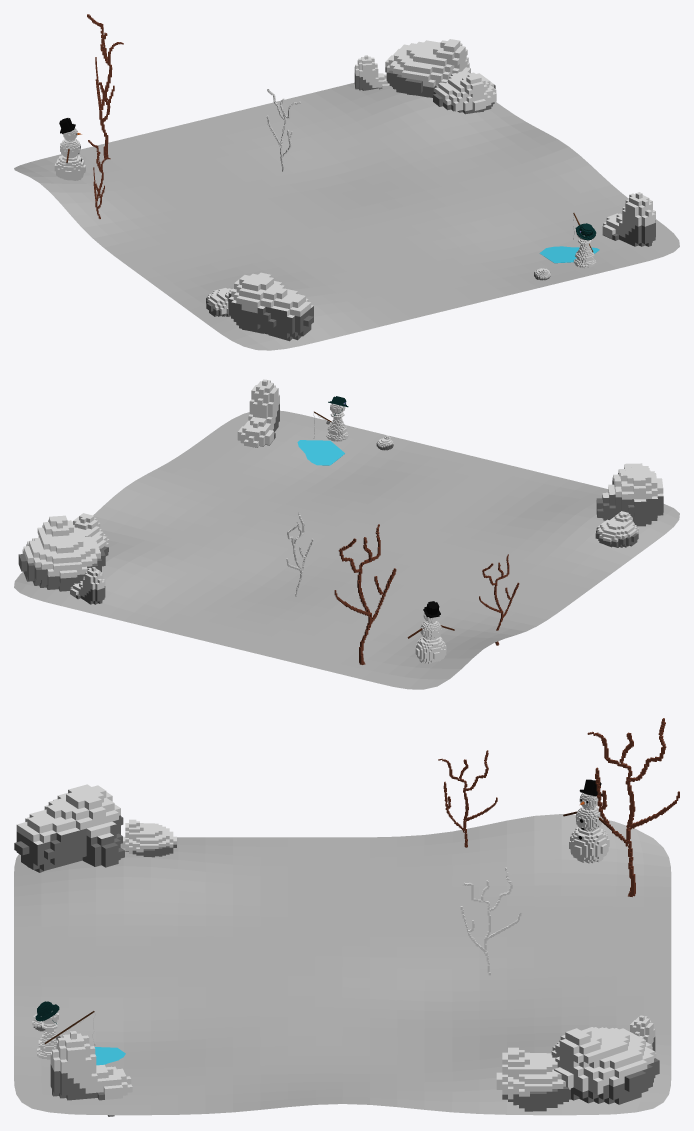
File: snowmap.fbx
3 views of the same model, one above another, from view 1: azimuth 30°, elevation 25°; view 2: azimuth 150°, elevation 25°; view 3: azimuth 270°, elevation 25° (orthographic). The views are drawn at different scales.
Visible parts, largest first — view 1: Plane, Mball.007, Mball.009, Mball.008, Mball.002, BézierCurve, Mball.010, Sphere, Mball.006, BézierCurve.001, Circle; view 2: Plane, Mball.009, Mball.007, Mball.002, BézierCurve, Mball.006, Mball.010, Circle, Mball.008, Sphere, BézierCurve.002, basic_pawn_mesh.004 (+1 smaller); view 3: Plane, Mball.007, Mball.009, Mball.002, Mball.008, BézierCurve, Mball.006, Sphere, BézierCurve.002, BézierCurve.001, basic_pawn_mesh.004.
Part boxes in pixels (x1,y1,x2,y2): Plane: (14,82,679,350); Mball.007: (228,272,313,341); Mball.009: (385,39,470,97); Mball.008: (433,71,496,114); Mball.002: (602,192,655,246); BézierCurve: (87,14,123,158); Mball.010: (354,55,391,90); Sphere: (54,155,85,180); Mball.006: (206,288,233,316); BézierCurve.001: (266,89,300,171); Circle: (539,246,599,263); Plane: (14,410,679,689); Mball.009: (18,515,105,591); Mball.007: (596,463,663,526); Mball.002: (237,379,279,447); BézierCurve: (334,524,396,664); Mball.006: (595,511,638,547); Mball.010: (70,567,105,604); Circle: (297,440,344,465); Mball.008: (72,513,109,556); Sphere: (415,636,446,663); BézierCurve.002: (479,554,519,645); basic_pawn_mesh.004: (326,403,348,441); Plane: (14,814,671,1115); Mball.007: (14,784,124,872); Mball.009: (548,1027,659,1104); Mball.002: (50,1031,132,1116); Mball.008: (496,1047,570,1111); BézierCurve: (587,718,679,896); Mball.006: (121,819,176,857); Sphere: (569,827,609,863); BézierCurve.002: (438,750,497,847); BézierCurve.001: (460,867,522,975); basic_pawn_mesh.004: (37,1011,58,1059).
Size of the model in its own units: 4223 by 1395 by 4279.
